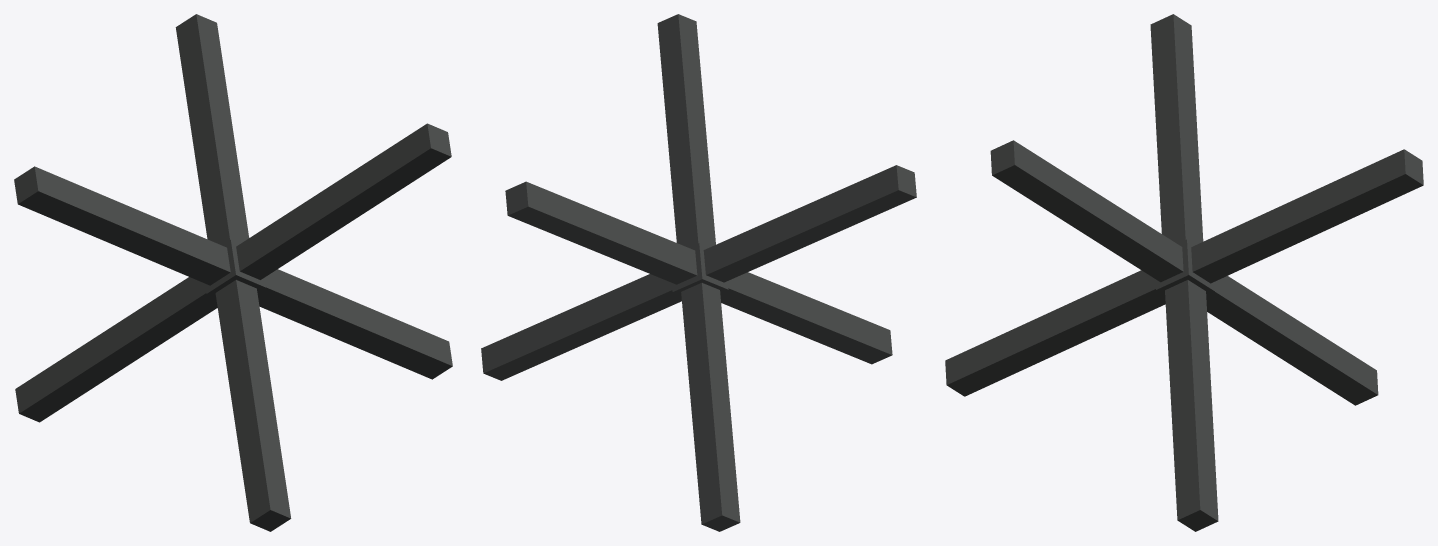
Rendered from hedgehog.glb.
3 renders of one model, left to right at view 1: azimuth 30°, elevation 25°; view 2: azimuth 150°, elevation 25°; view 3: azimuth 270°, elevation 25°, orthographic. The views are drawn at different scales.
Parts seen in each view (by area): view 1: Cube.005; view 2: Cube.005; view 3: Cube.005.
Part boxes in pixels (left/top/right/bottom): Cube.005: left=14, top=14, right=452, bottom=531; Cube.005: left=481, top=14, right=916, bottom=531; Cube.005: left=945, top=14, right=1423, bottom=531.
Bounding box in the file's own units: 1.83 × 1.45 × 1.7.
1 material, 1 textured.
